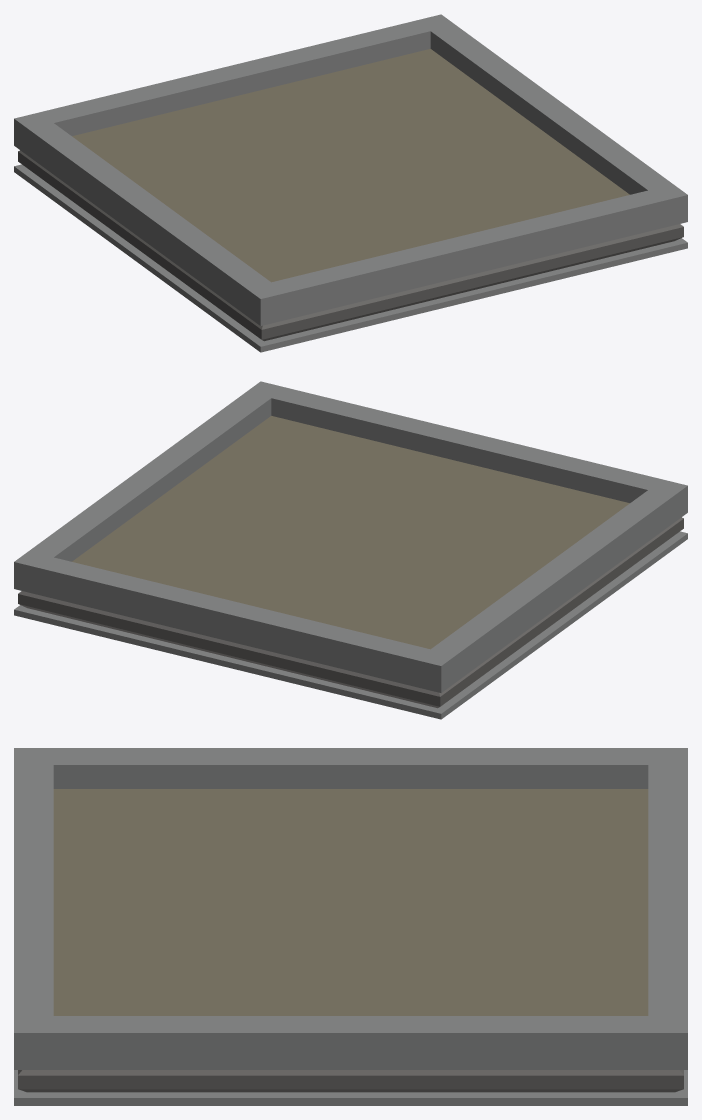
Rendered from Building_B_03.FBX.
3 views of the same model, one above another, from view 1: azimuth 30°, elevation 25°; view 2: azimuth 150°, elevation 25°; view 3: azimuth 270°, elevation 25° (orthographic). The views are drawn at different scales.
Parts seen in each view (by area): view 1: Building_B_03; view 2: Building_B_03; view 3: Building_B_03.
Boxes of the visible parts, x1,y1,x2,y2 form: Building_B_03: (14, 14, 687, 352); Building_B_03: (14, 381, 687, 719); Building_B_03: (14, 748, 687, 1105).
Bounding box in the file's own units: 5.08 × 0.6082 × 5.08.
